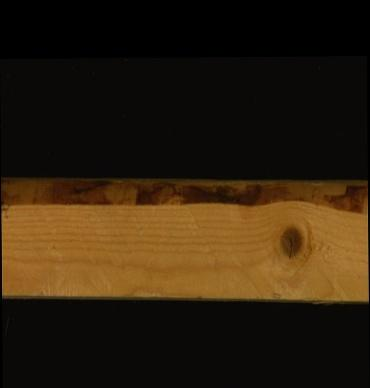sound_knot: (277, 223, 302, 259)
wave: (0, 174, 367, 218)
